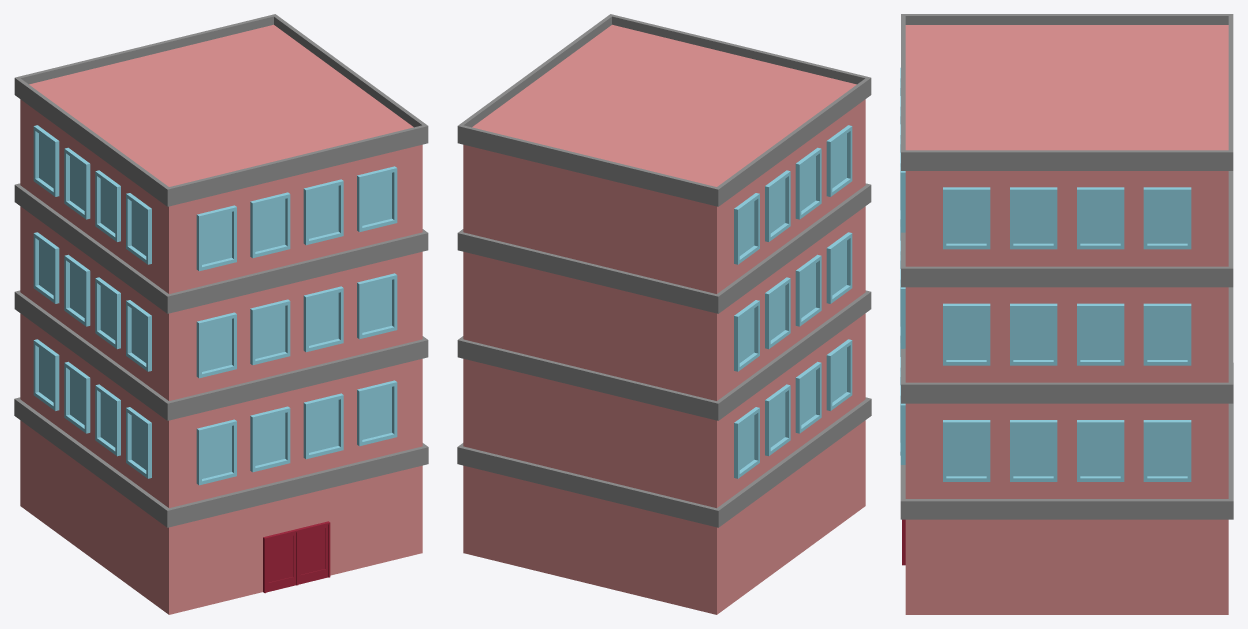
File: Building 4.FBX
The picture shows the model from 3 angles, left to right: view 1: azimuth 30°, elevation 25°; view 2: azimuth 150°, elevation 25°; view 3: azimuth 270°, elevation 25°; orthographic projection. The views are drawn at different scales.
Visible parts, largest first — view 1: 3rd story001, Base Level, 1 Story, 3rd story, FixedWindow008, FixedWindow017, FixedWindow019, FixedWindow029, FixedWindow031, FixedWindow007, FixedWindow006, FixedWindow005 (+18 smaller); view 2: 3rd story001, Base Level, 1 Story, 3rd story, FixedWindow022, FixedWindow010, FixedWindow009, FixedWindow021, FixedWindow033, FixedWindow034, FixedWindow011, FixedWindow012 (+4 smaller); view 3: 3rd story001, Base Level, 3rd story, 1 Story, FixedWindow025, FixedWindow037, FixedWindow013, FixedWindow026, FixedWindow027, FixedWindow028, FixedWindow038, FixedWindow039 (+4 smaller).
Boxes of the visible parts, x1,y1,x2,y2 form: 3rd story001: (14, 14, 428, 293); Base Level: (14, 397, 428, 614); 1 Story: (14, 290, 428, 508); 3rd story: (14, 183, 428, 400); FixedWindow008: (196, 419, 236, 485); FixedWindow017: (357, 273, 397, 339); FixedWindow019: (250, 299, 290, 365); FixedWindow029: (357, 166, 397, 232); FixedWindow031: (250, 192, 290, 258); FixedWindow007: (250, 406, 290, 472); FixedWindow006: (303, 393, 343, 459); FixedWindow005: (357, 380, 397, 446); 3rd story001: (457, 14, 871, 293); Base Level: (457, 397, 871, 614); 1 Story: (457, 290, 871, 508); 3rd story: (457, 183, 871, 400); FixedWindow022: (795, 254, 821, 326); FixedWindow010: (795, 361, 821, 433); FixedWindow009: (826, 339, 852, 410); FixedWindow021: (826, 232, 852, 303); FixedWindow033: (826, 125, 852, 196); FixedWindow034: (795, 147, 821, 219); FixedWindow011: (765, 384, 790, 456); FixedWindow012: (734, 407, 759, 478); 3rd story001: (901, 14, 1233, 266); Base Level: (900, 363, 1233, 614); 3rd story: (901, 171, 1233, 382); 1 Story: (901, 287, 1233, 498); FixedWindow025: (1143, 303, 1191, 365); FixedWindow037: (1143, 187, 1191, 249); FixedWindow013: (1143, 420, 1191, 481); FixedWindow026: (1077, 303, 1124, 365); FixedWindow027: (1010, 303, 1057, 365); FixedWindow028: (943, 303, 990, 365); FixedWindow038: (1077, 187, 1124, 249); FixedWindow039: (1010, 187, 1057, 249).
Size of the model in its own units: 366 by 572 by 371.
